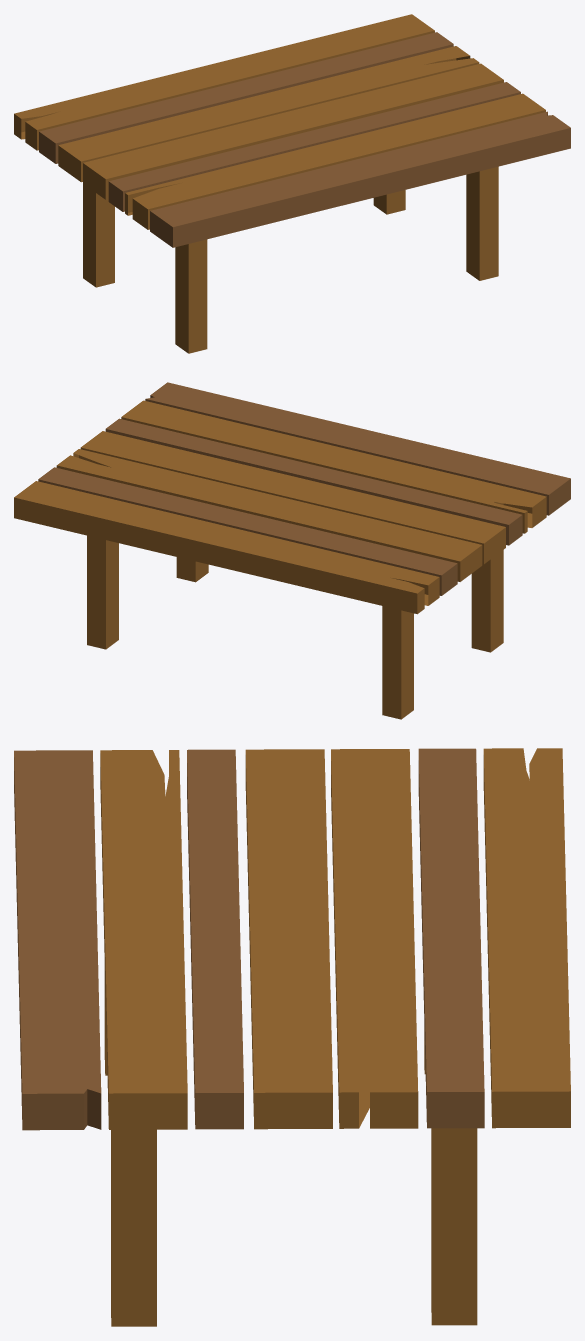
The model's file is Table.fbx.
3 views of the same model, one above another, from view 1: azimuth 30°, elevation 25°; view 2: azimuth 150°, elevation 25°; view 3: azimuth 270°, elevation 25° (orthographic). The views are drawn at different scales.
Parts seen in each view (by area): view 1: Table; view 2: Table; view 3: Table.
Part boxes in pixels (<box>): Table: <box>14,14,570,353</box>; Table: <box>14,382,570,719</box>; Table: <box>14,748,570,1326</box>.
Size of the model in its own units: 275 by 101 by 187.
